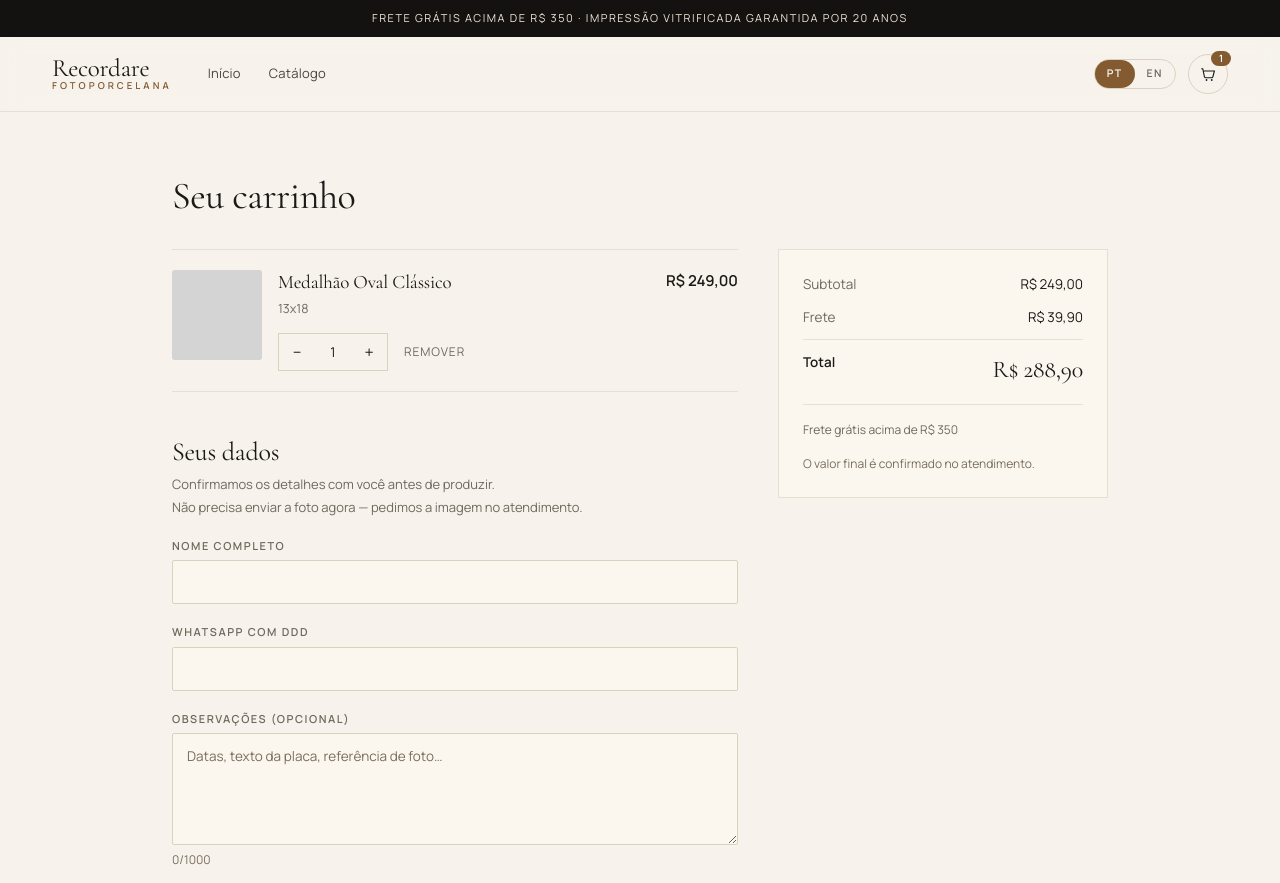
Test: checkout › manda revisar o carrinho quando o banco recusa uma peça
Type "Maria Silva" into the field labelled "Nome completo" at (455, 582), box top-left (172, 560), bottom-right (738, 604)
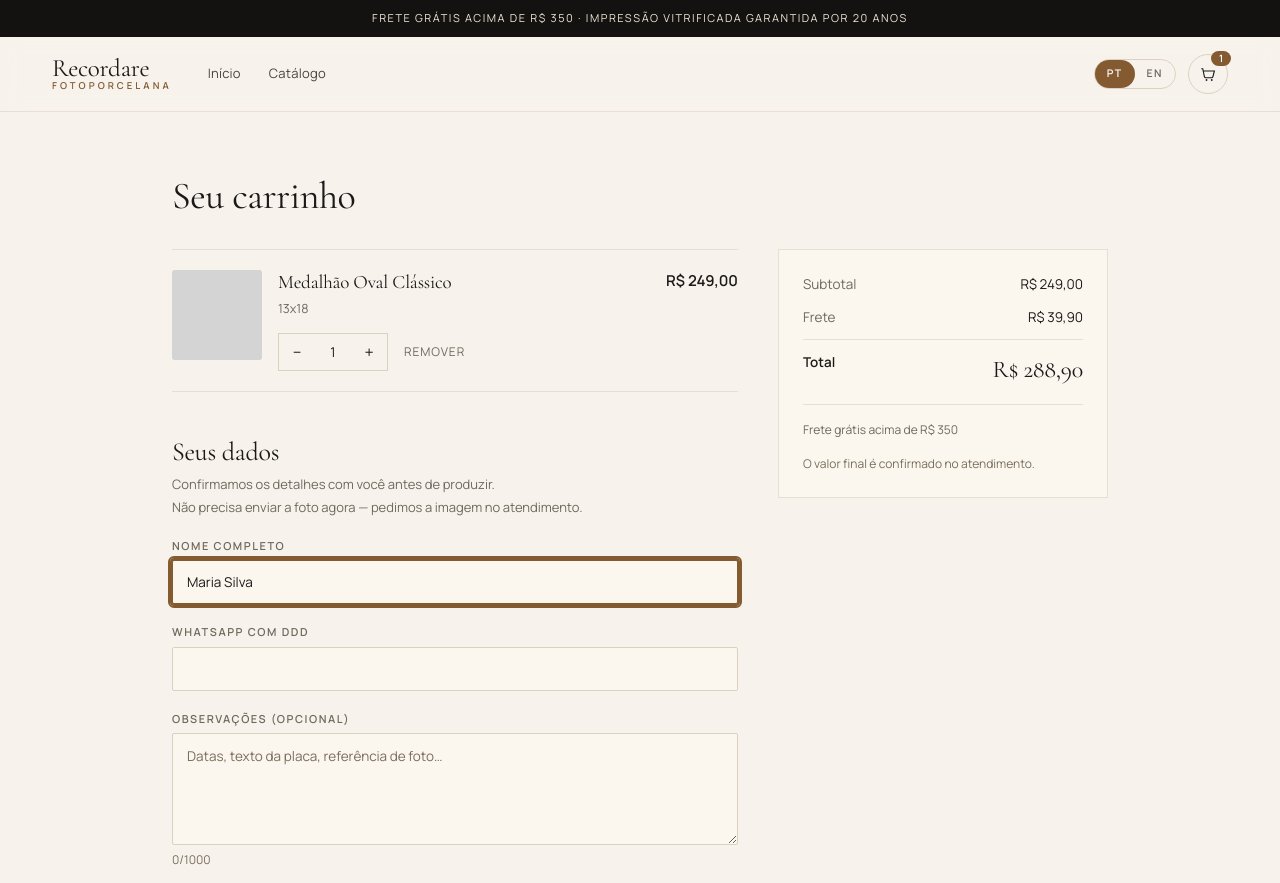
Type "44999990000" into the field labelled "WhatsApp com DDD" at (455, 669), box top-left (172, 647), bottom-right (738, 691)
(page scrolled)
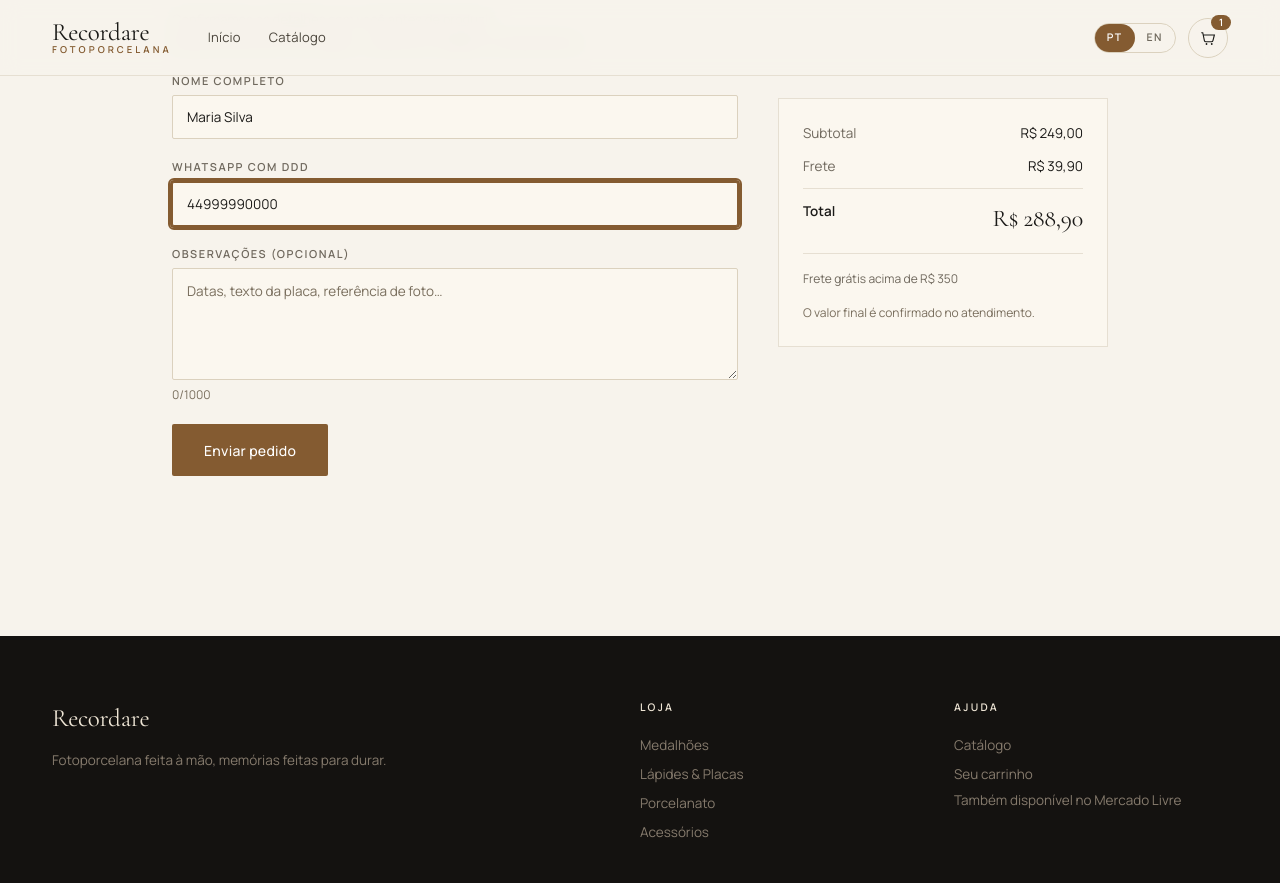
Click the button "Enviar pedido" at (250, 450), box top-left (172, 424), bottom-right (328, 476)
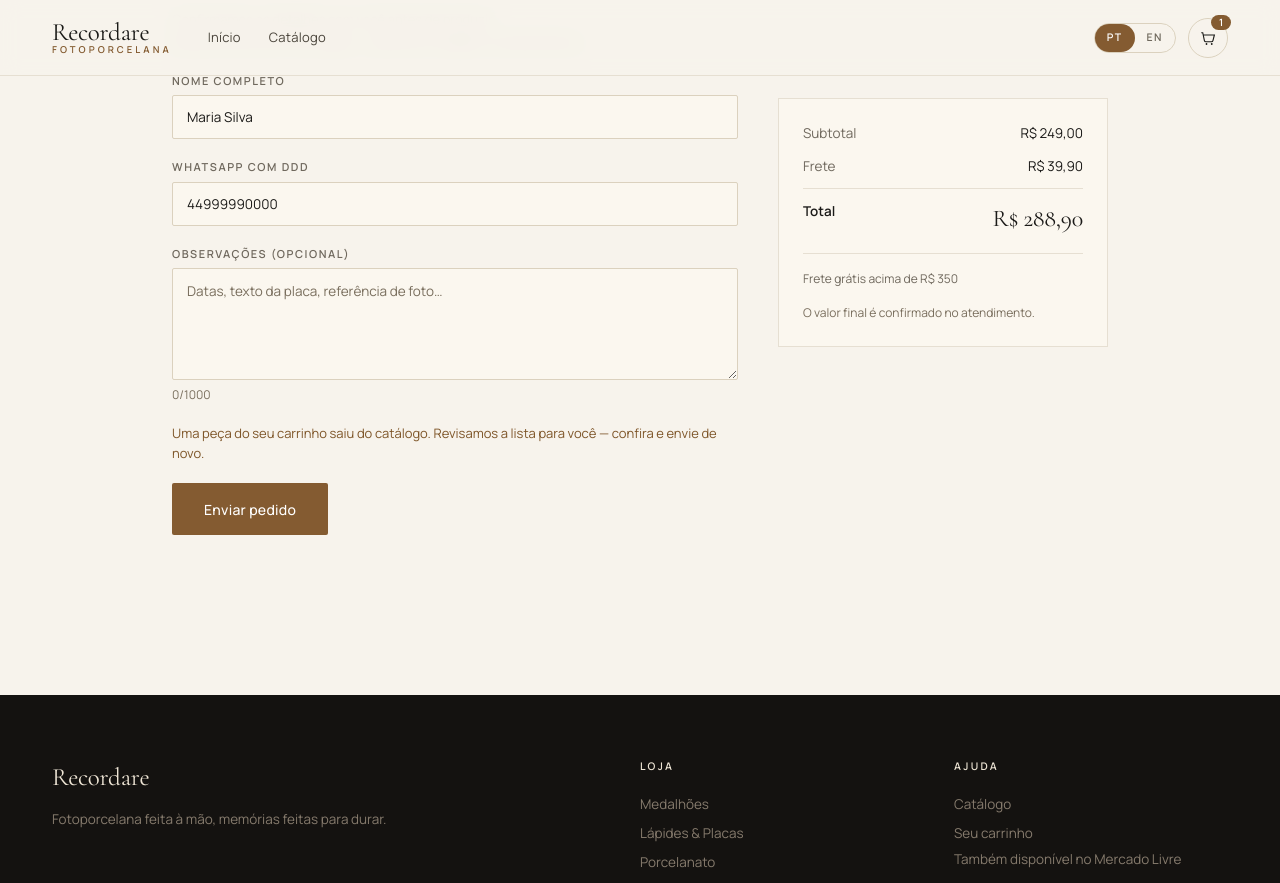
Expected: the message shows "saiu do catálogo", top-left (172, 424), bottom-right (717, 462)
